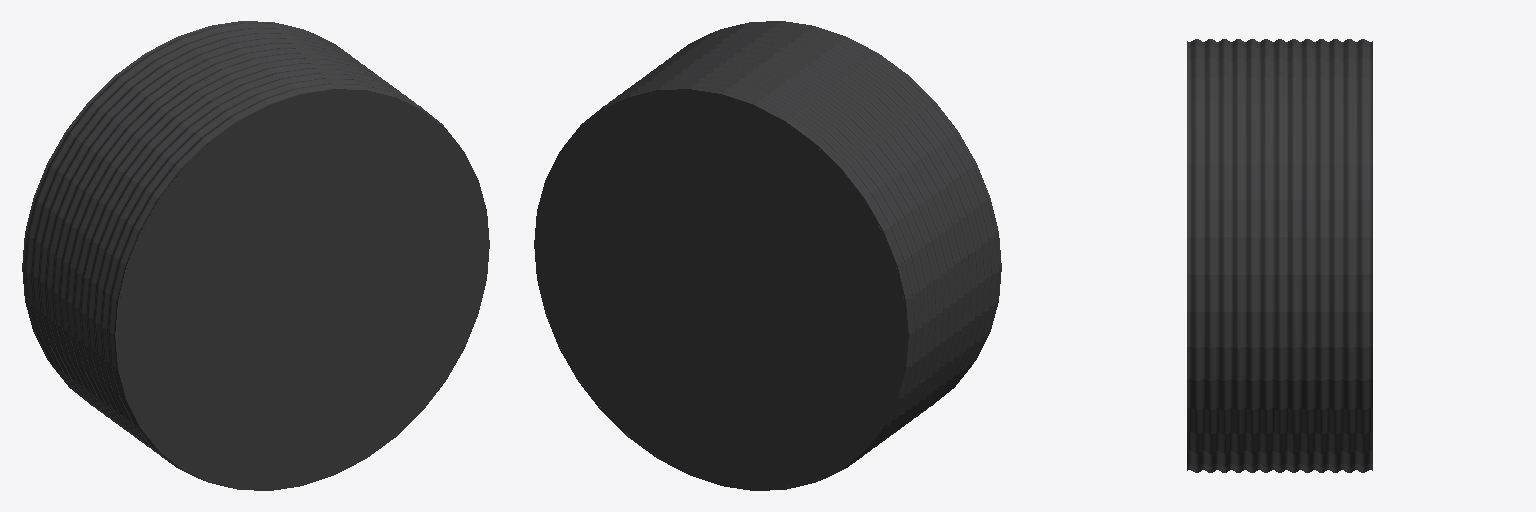
The model's file is Tankworks_Round.obj.
3 renders of one model, left to right at view 1: azimuth 30°, elevation 25°; view 2: azimuth 150°, elevation 25°; view 3: azimuth 270°, elevation 25°, orthographic.
Visible parts, largest first — view 1: FURNITURELOOSE STAINLESS_STEEL FLAT_PART, FURNITURELOOSE STAINLESS_STEEL SMOOTH_PART; view 2: FURNITURELOOSE STAINLESS_STEEL FLAT_PART, FURNITURELOOSE STAINLESS_STEEL SMOOTH_PART; view 3: FURNITURELOOSE STAINLESS_STEEL SMOOTH_PART.
Boxes of the visible parts, x1,y1,x2,y2 form: FURNITURELOOSE STAINLESS_STEEL FLAT_PART: [115, 89, 489, 490]; FURNITURELOOSE STAINLESS_STEEL SMOOTH_PART: [22, 21, 485, 487]; FURNITURELOOSE STAINLESS_STEEL FLAT_PART: [534, 89, 908, 490]; FURNITURELOOSE STAINLESS_STEEL SMOOTH_PART: [538, 21, 1001, 487]; FURNITURELOOSE STAINLESS_STEEL SMOOTH_PART: [1187, 39, 1372, 472].
Size of the model in its own units: 2400 by 2400 by 1024.